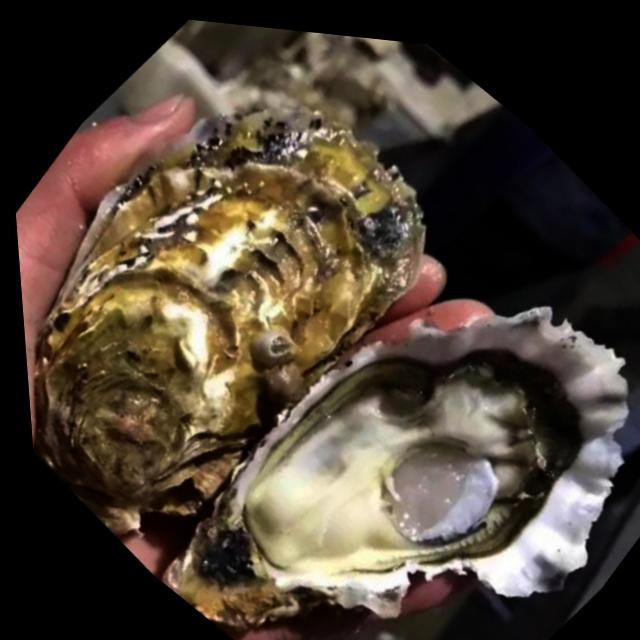Oyster-Indeterminate: (38, 94, 426, 517)
Oyster-Open: (121, 162, 640, 640)
